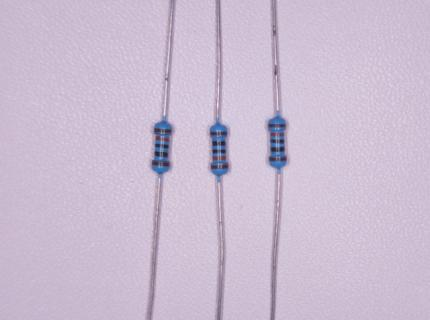Black band: (155, 151, 168, 158), (155, 143, 169, 149), (212, 141, 226, 146), (271, 147, 285, 152), (213, 149, 226, 153), (271, 139, 284, 143)
Brown band: (152, 160, 169, 167), (154, 128, 172, 133), (269, 157, 286, 162), (211, 165, 229, 169), (210, 132, 227, 135), (269, 124, 286, 127)
Orange band: (156, 136, 169, 142), (270, 132, 284, 137), (213, 156, 226, 160)
